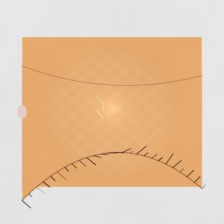corneal_ulcer: (76, 97, 127, 138)
